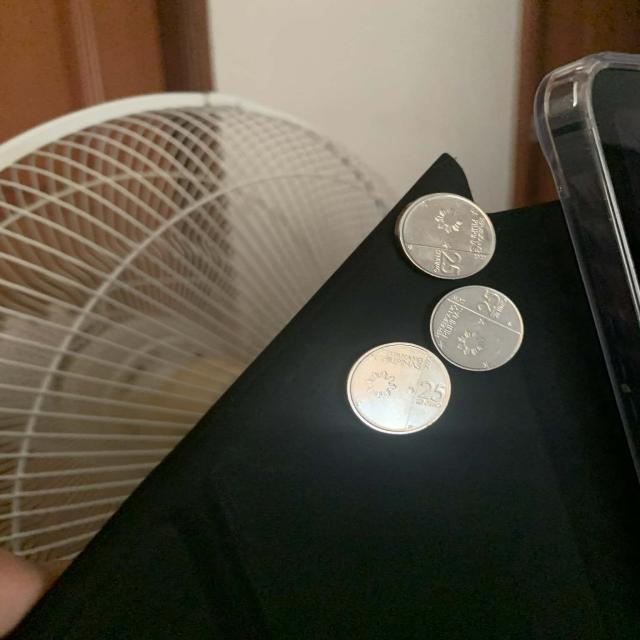25 cents: (396, 188, 501, 283), (346, 344, 451, 435), (429, 287, 525, 372)
